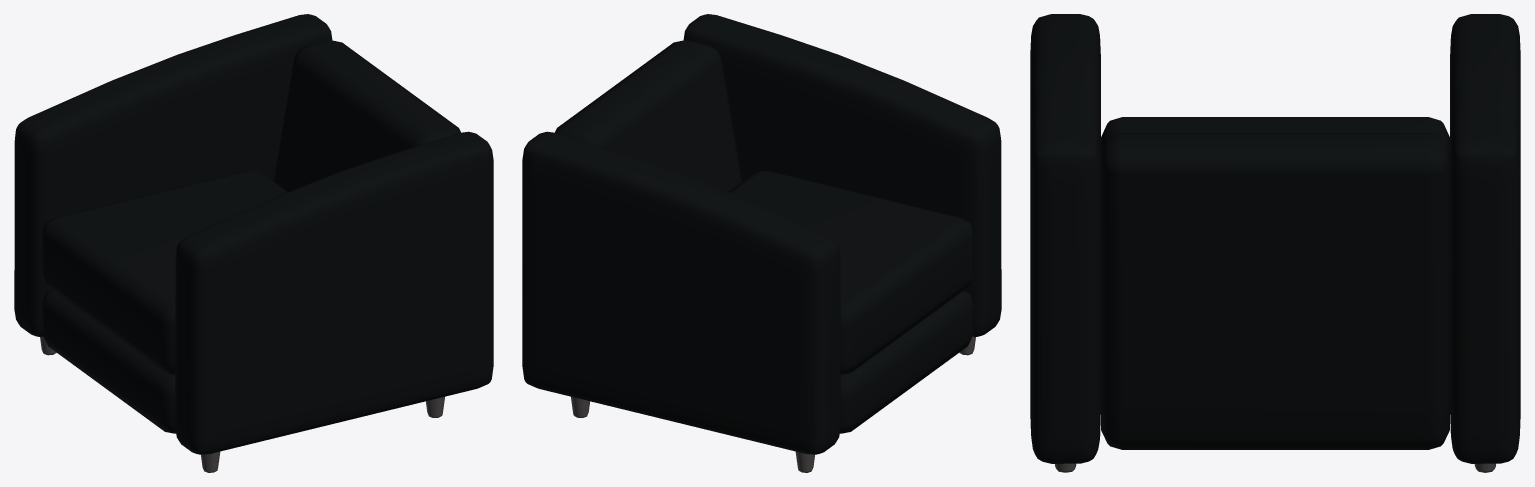
The model's file is armchair_02_black.fbx.
3 renders of one model, left to right at view 1: azimuth 30°, elevation 25°; view 2: azimuth 150°, elevation 25°; view 3: azimuth 270°, elevation 25°, orthographic. The views are drawn at different scales.
Parts seen in each view (by area): view 1: armchair_02_black; view 2: armchair_02_black; view 3: armchair_02_black.
Part boxes in pixels (x1,y1,x2,y2): armchair_02_black: [14, 14, 493, 472]; armchair_02_black: [522, 14, 1001, 472]; armchair_02_black: [1030, 14, 1520, 472].
Bounding box in the file's own units: 93.58 × 79.36 × 100.
2 materials, 2 textured.
